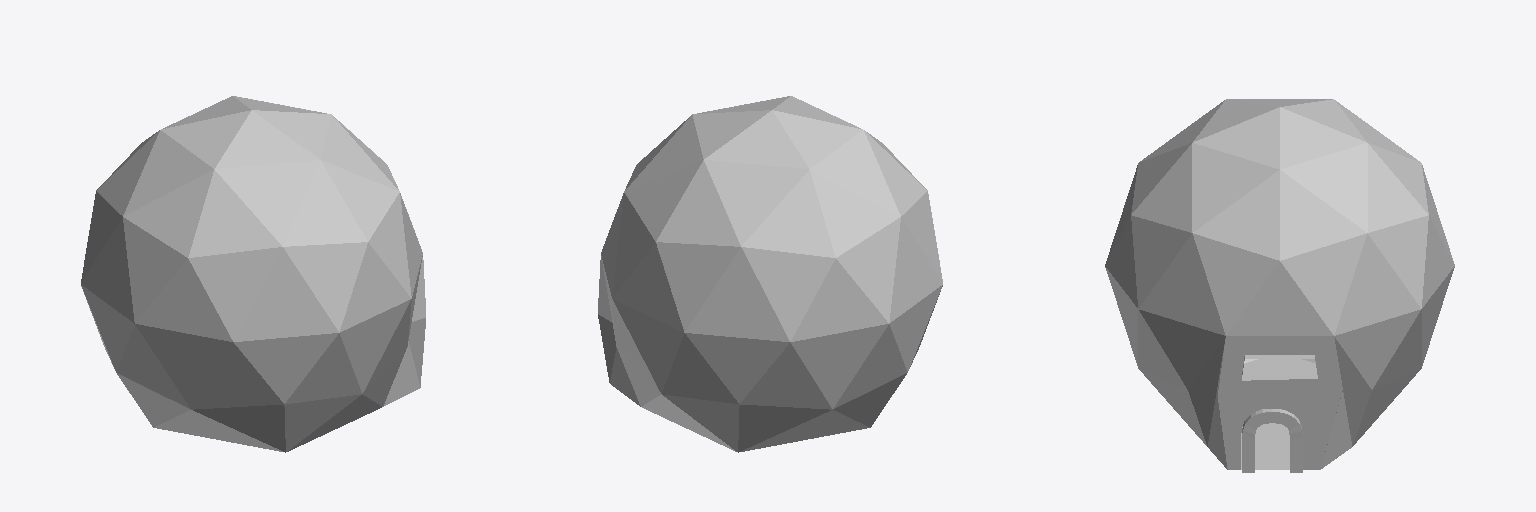
Rendered from dome.obj.
The picture shows the model from 3 angles: view 1: azimuth 30°, elevation 25°; view 2: azimuth 150°, elevation 25°; view 3: azimuth 270°, elevation 25°; orthographic projection.
Parts seen in each view (by area): view 1: Dome_Icosphere; view 2: Dome_Icosphere; view 3: Dome_Icosphere, Arch_Cube.002.
Part boxes in pixels (x1,y1,x2,y2): Dome_Icosphere: (81,96,425,452); Dome_Icosphere: (598,96,942,452); Dome_Icosphere: (1105,99,1454,469); Arch_Cube.002: (1242,409,1302,472).
Bounding box in the file's own units: 29.35 × 27.78 × 30.